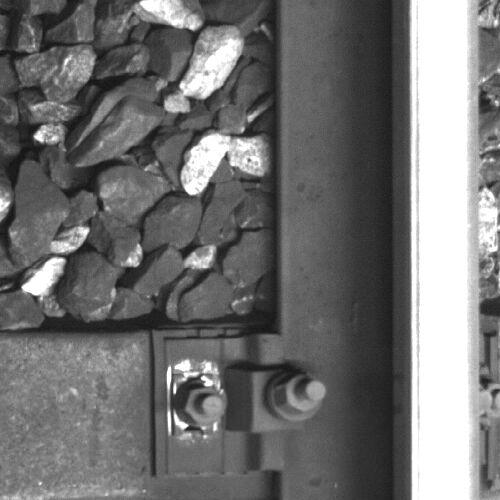kb: (164, 336, 330, 473)
nut: (273, 370, 327, 417), (179, 384, 227, 428)
rail: (409, 1, 478, 500)
tie_concr: (1, 333, 278, 500)
